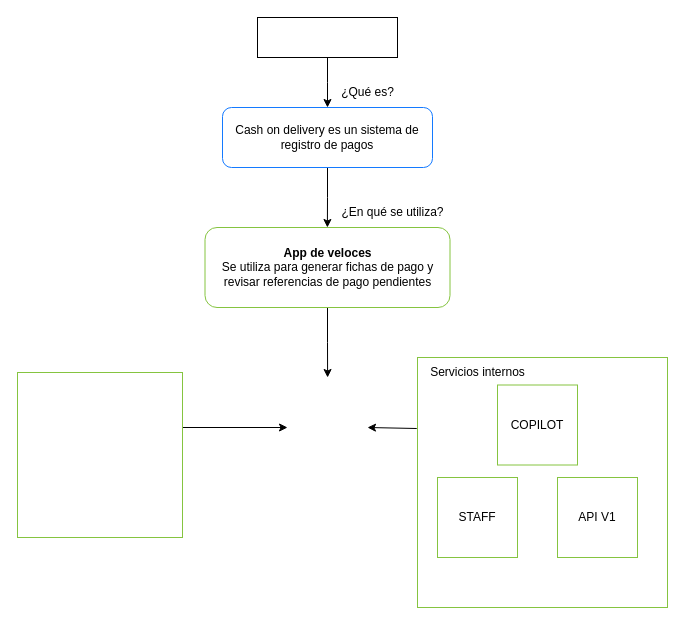
This 685x625 diagram has some shape labels left out. Grey dashed boxes stand in for pictures. Here are the shapes that lost their labels. From the top down, the box of each, then its label:
(256, 16, 398, 58): CASH ON DELIVERY
(16, 372, 182, 538): Servicios externos
